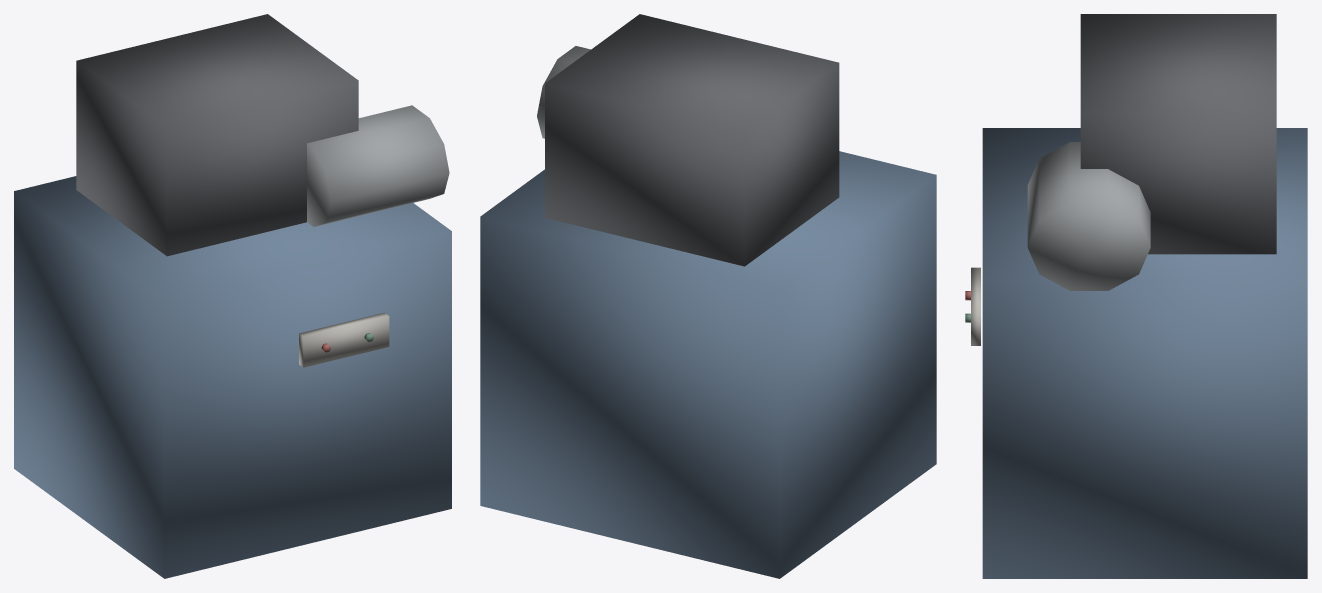
File: rolling_tool_chest__deep.glb
The picture shows the model from 3 angles, left to right: view 1: azimuth 30°, elevation 25°; view 2: azimuth 150°, elevation 25°; view 3: azimuth 270°, elevation 25°; orthographic projection. The views are drawn at different scales.
Visible parts, largest first — view 1: world; view 2: world; view 3: world.
Boxes of the visible parts, x1,y1,x2,y2 form: world: (14,14,451,578); world: (480,14,936,578); world: (965,14,1307,578).
Bounding box in the file's own units: 0.83 × 1.05 × 0.7454.
